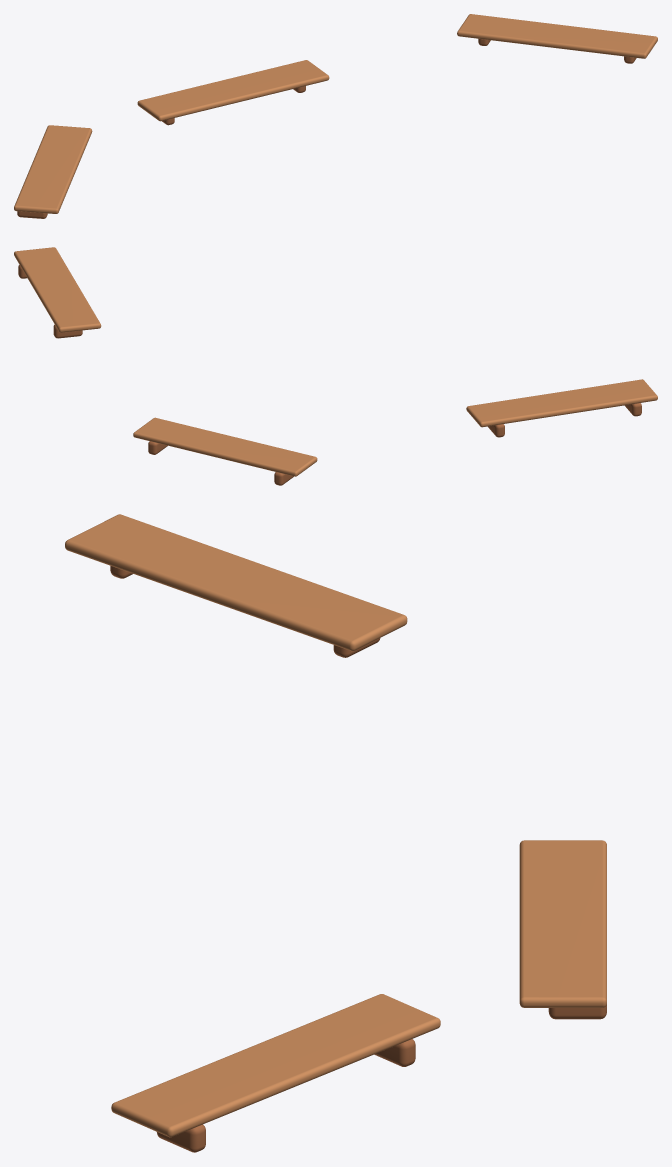
The model's file is room_shelves_v1_draco_webp.glb.
3 views of the same model, one above another, from view 1: azimuth 30°, elevation 25°; view 2: azimuth 150°, elevation 25°; view 3: azimuth 270°, elevation 25° (orthographic). The views are drawn at different scales.
Visible parts, largest first — view 1: display_shelf_02_board, display_shelf_01_board, display_shelf_03_board; view 2: display_shelf_03_board, display_shelf_01_board, display_shelf_02_board; view 3: display_shelf_03_board, display_shelf_02_board, display_shelf_01_board.
Boxes of the visible parts, x1,y1,x2,y2 form: display_shelf_02_board: [457, 14, 657, 58]; display_shelf_01_board: [137, 60, 329, 121]; display_shelf_03_board: [14, 125, 92, 213]; display_shelf_03_board: [466, 379, 657, 427]; display_shelf_01_board: [133, 417, 317, 476]; display_shelf_02_board: [14, 247, 101, 332]; display_shelf_03_board: [65, 514, 407, 651]; display_shelf_02_board: [111, 994, 440, 1137]; display_shelf_01_board: [519, 840, 606, 1007].
Bounding box in the file's own units: 5 × 0.49 × 1.86.
